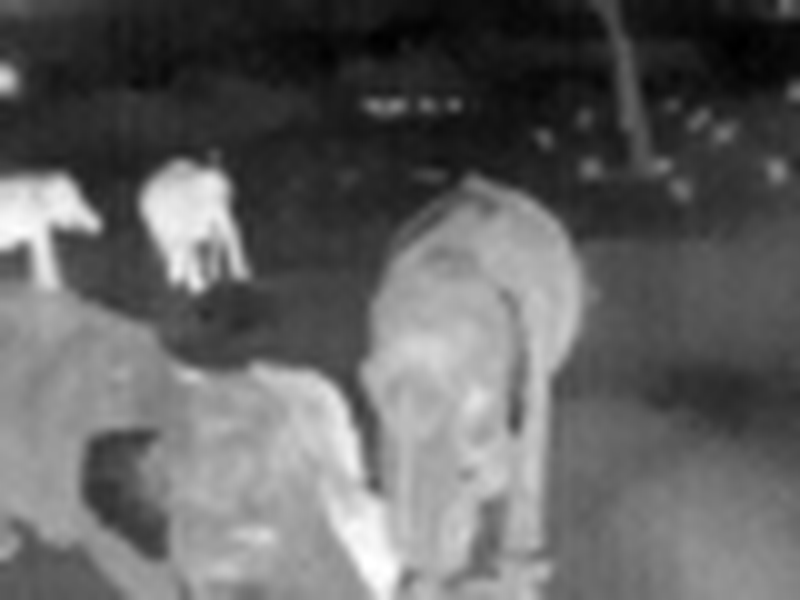elephant: (1, 163, 619, 585)
